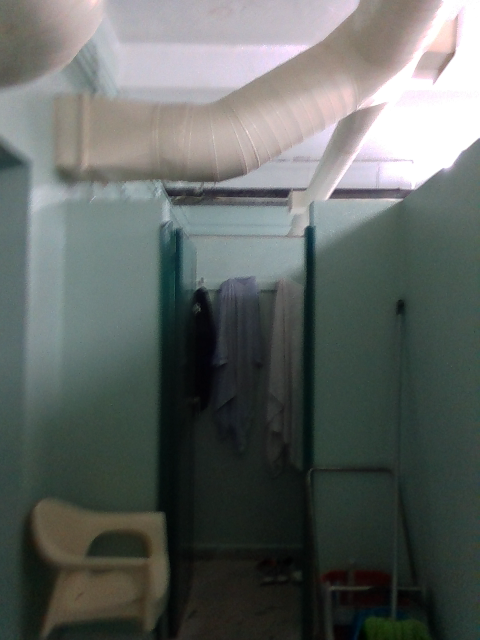open: (158, 224, 193, 576)
